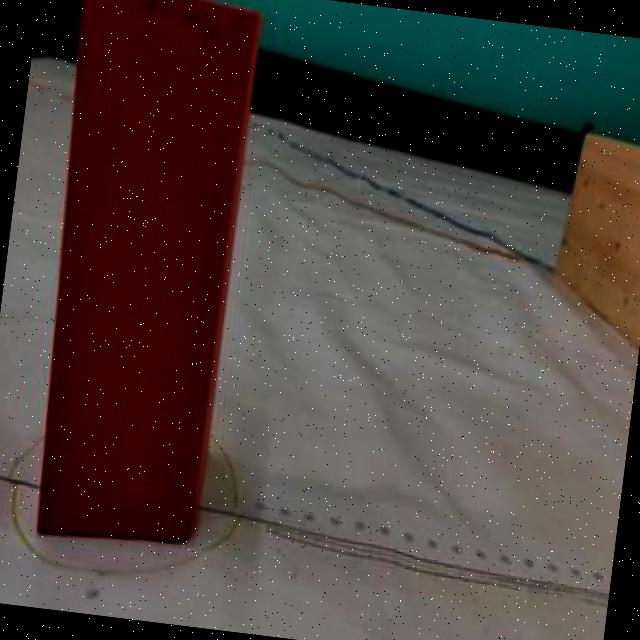redbox: (18, 0, 263, 550)
